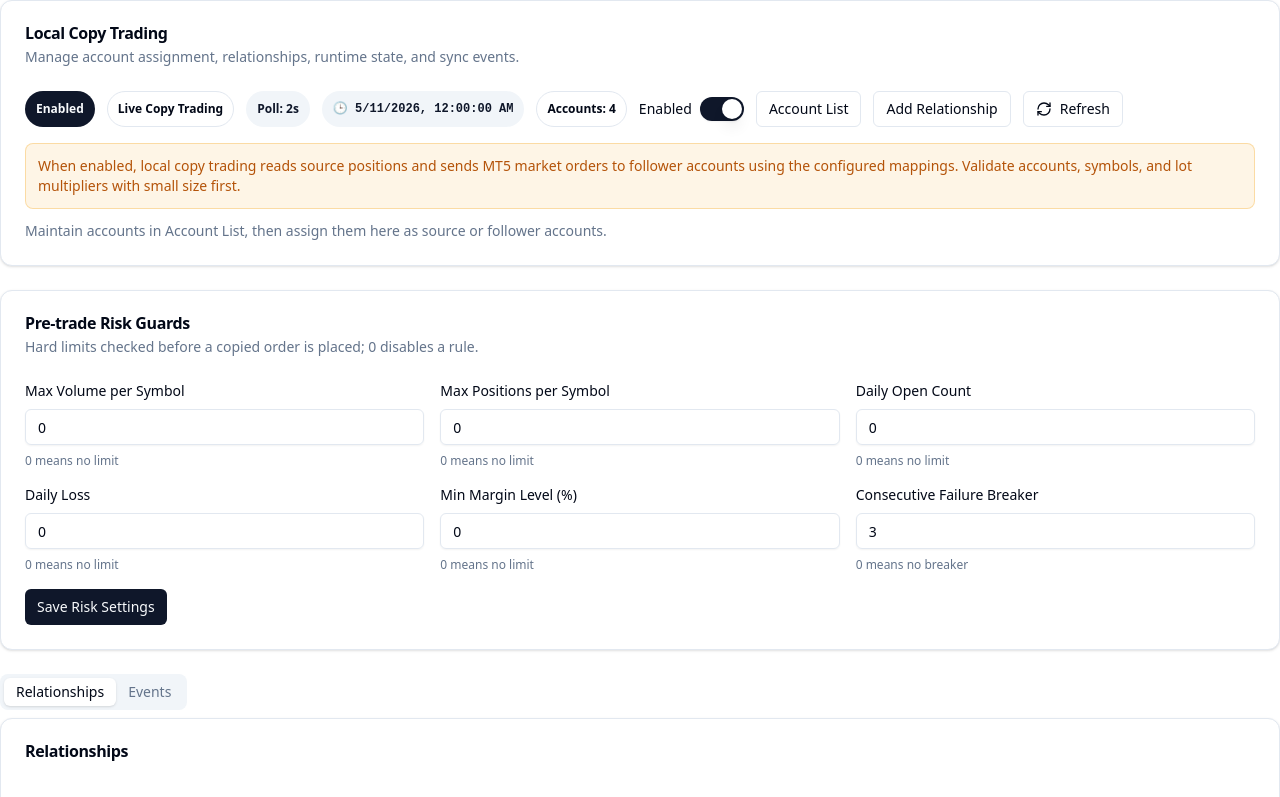
Test: Local Copy Trading Page › renders account summary, relationship data, and events
Check: the text "Manage account assignment, relationships, runtime state, and sync events." is shown, box top-left (25, 47), bottom-right (519, 66)
Check: the text "Accounts: 4" is shown, box top-left (536, 91), bottom-right (627, 127)
Click the tab "Events" at {"x": 150, "y": 692}, box top-left (116, 678), bottom-right (183, 706)
(page scrolled)
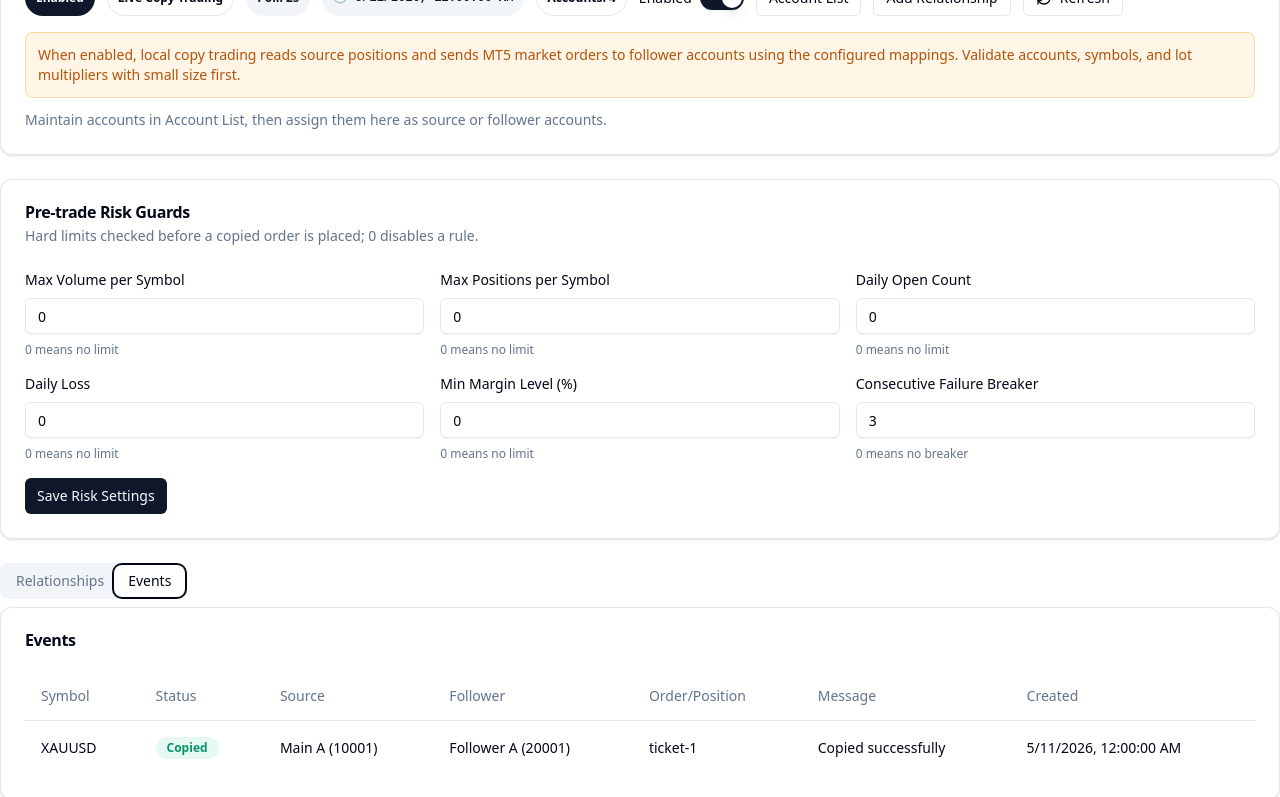
Check: the text "ticket-1" is shown, box top-left (633, 720), bottom-right (802, 774)
Check: the text "Copied successfully" is shown, box top-left (802, 720), bottom-right (1011, 774)
